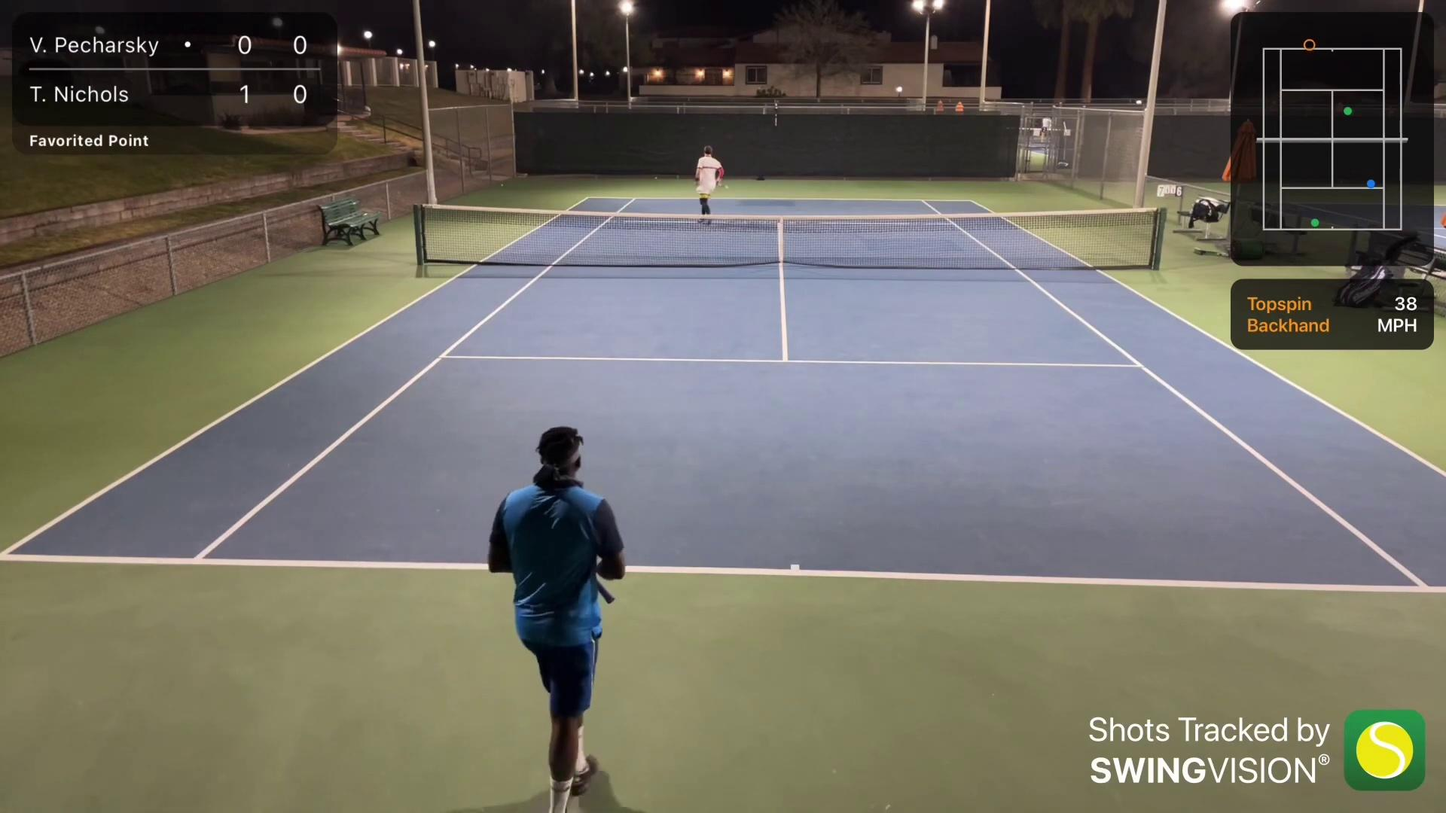ball: (651, 173, 660, 182), (722, 184, 729, 190), (499, 181, 505, 188)
